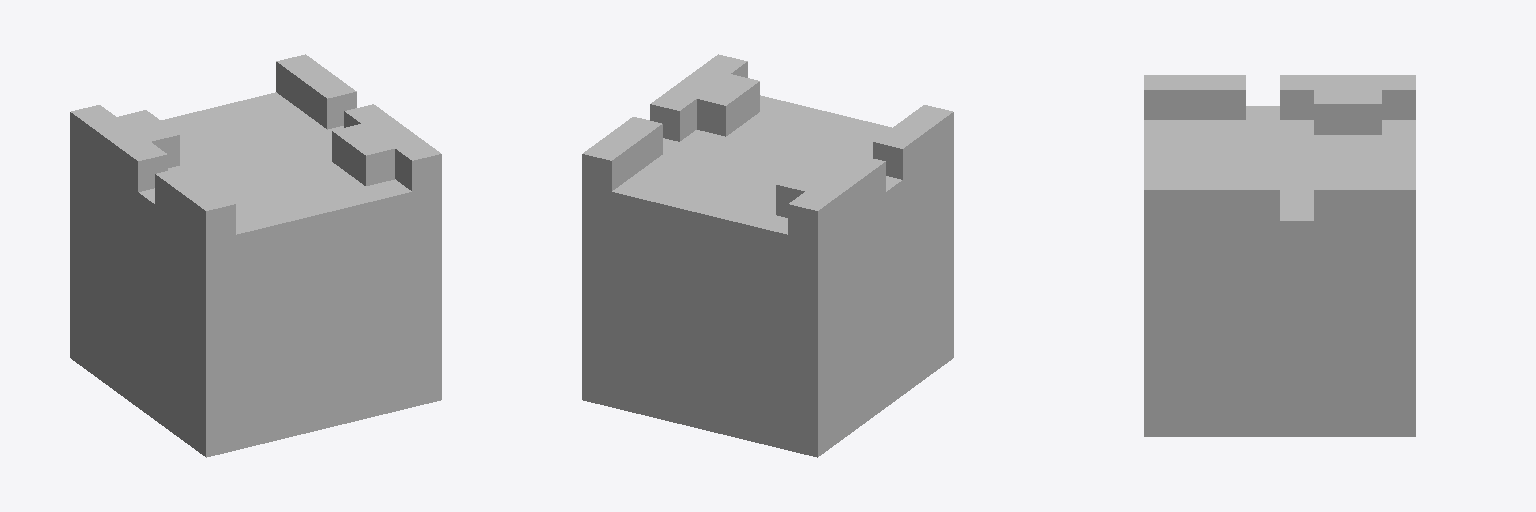
File: PathStraight.obj
3 renders of one model, left to right at view 1: azimuth 30°, elevation 25°; view 2: azimuth 150°, elevation 25°; view 3: azimuth 270°, elevation 25°, orthographic.
Parts seen in each view (by area): view 1: object 1; view 2: object 1; view 3: object 1.
Part boxes in pixels (bbox=[...]): object 1: bbox=[70, 54, 441, 457]; object 1: bbox=[582, 54, 953, 457]; object 1: bbox=[1144, 75, 1415, 436].
Size of the model in its own units: 0.8 by 0.8 by 0.8.